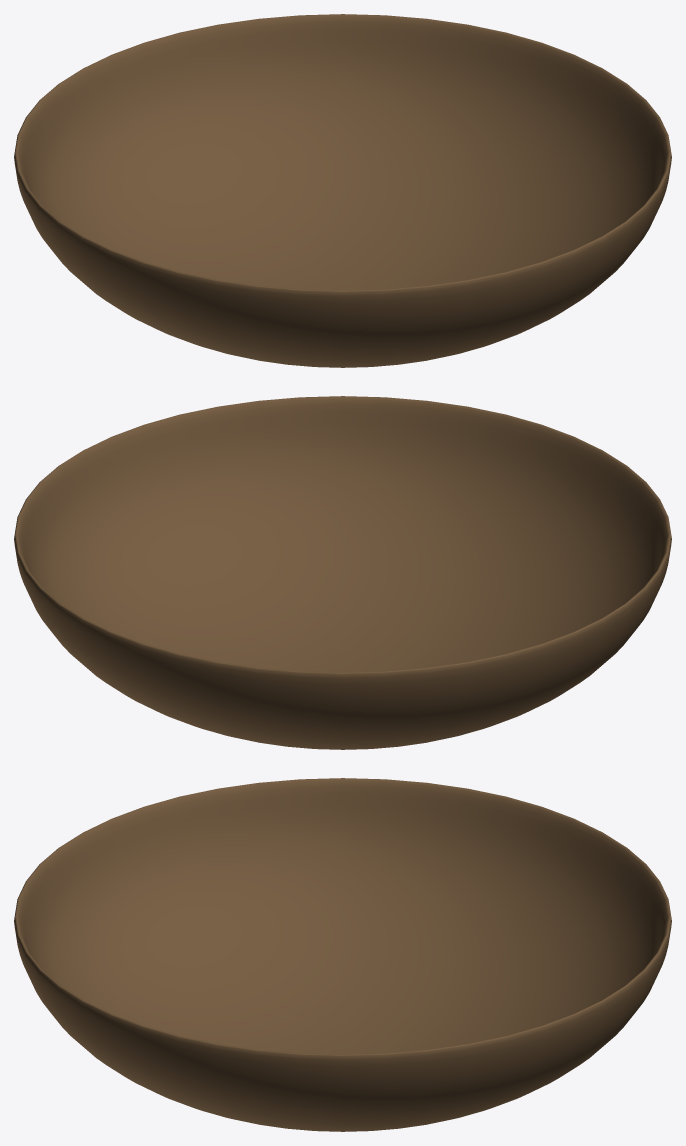
Rendered from bowl_01.fbx.
The picture shows the model from 3 angles, top to bottom: view 1: azimuth 30°, elevation 25°; view 2: azimuth 150°, elevation 25°; view 3: azimuth 270°, elevation 25°; orthographic projection.
Visible parts, largest first — view 1: pSphere3; view 2: pSphere3; view 3: pSphere3.
Part boxes in pixels (bbox=[...]): pSphere3: bbox=[14, 14, 671, 367]; pSphere3: bbox=[14, 396, 671, 749]; pSphere3: bbox=[14, 778, 671, 1131].
Bounding box in the file's own units: 1.9 × 0.5287 × 1.9.
